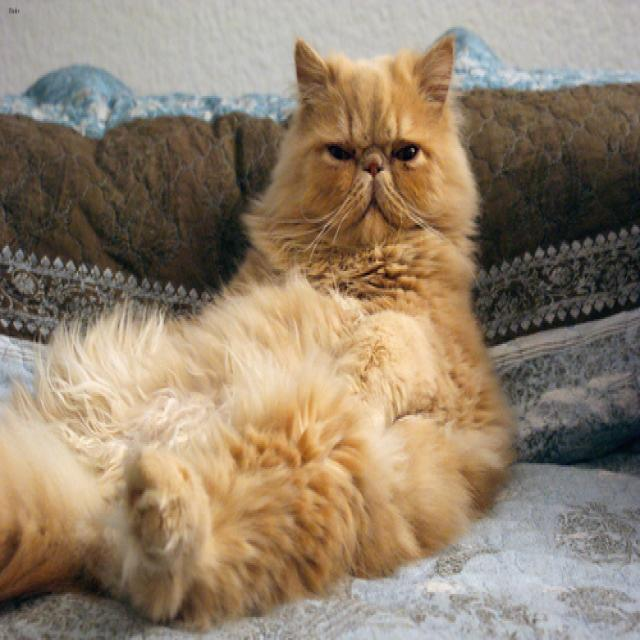Persian: (271, 30, 480, 260)
